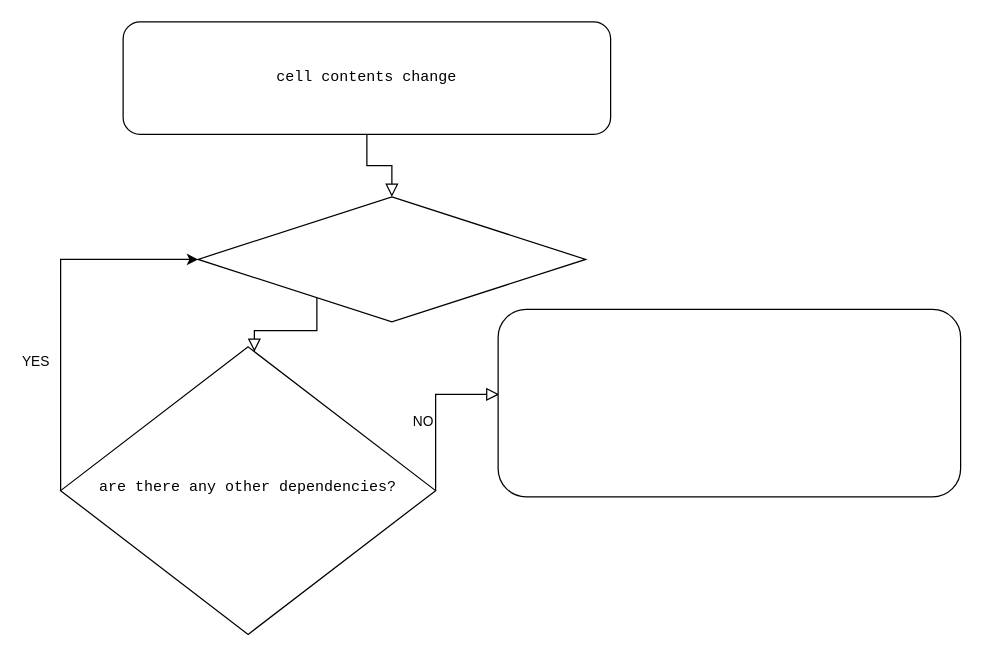
This 983x656 diagram has some shape labels left out. Each missing label, with the box of its shape:
clear dependent cell: (197, 196, 586, 322)
we continue the program: (497, 308, 961, 497)
